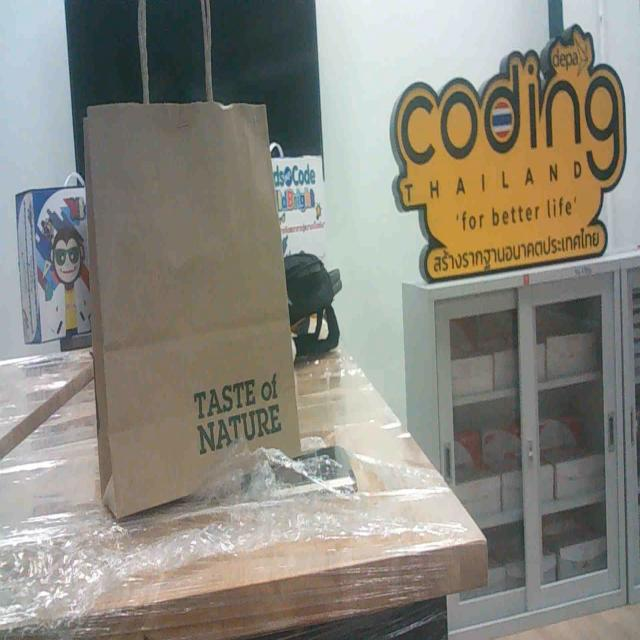bag: (69, 96, 305, 503)
